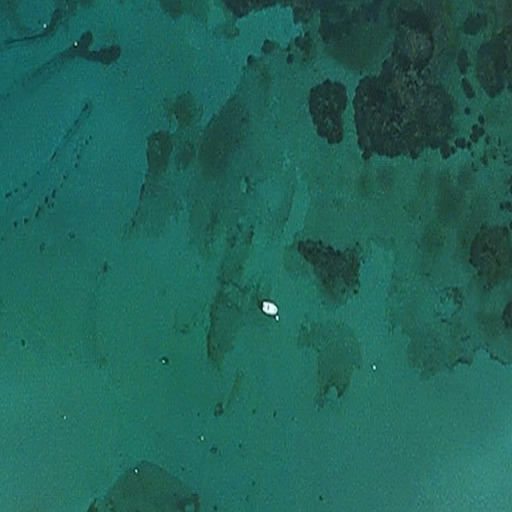ship: (259, 299, 281, 320)
